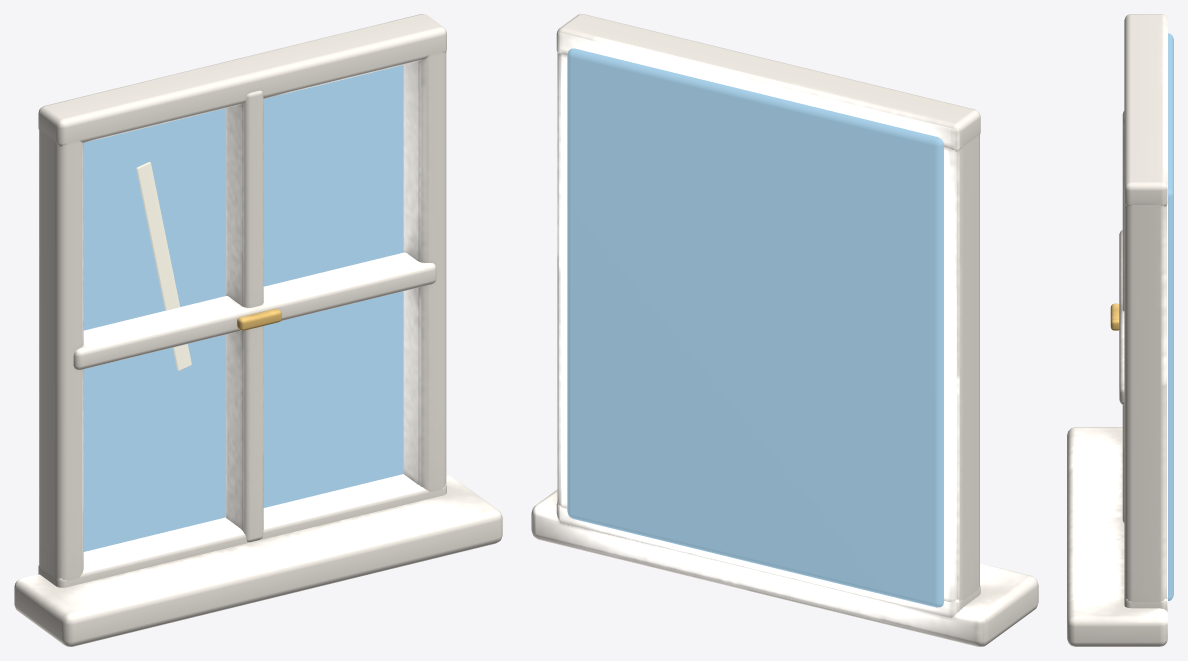
Rendered from windowWhiteClassic.glb.
3 views of the same model, side by side, from view 1: azimuth 30°, elevation 25°; view 2: azimuth 150°, elevation 25°; view 3: azimuth 270°, elevation 25° (orthographic). The views are drawn at different scales.
Visible parts, largest first — view 1: Sky blue glass, Deep window sill, Window upright, Window crossbar.001, Window upright.001, Window center mullion, Window sash, Window crossbar, Window light reflection; view 2: Sky blue glass, Window upright, Window crossbar.001, Deep window sill, Window upright.001, Window crossbar; view 3: Window upright.001, Deep window sill, Window crossbar.001, Sky blue glass, Window center mullion, Window sash, Window crossbar, Brass window latch.
Boxes of the visible parts, box(x1,y1,x2,y2) form: Sky blue glass: box(83, 65, 403, 551); Deep window sill: box(14, 475, 502, 646); Window upright: box(39, 130, 83, 580); Window crossbar.001: box(38, 14, 446, 146); Window upright.001: box(403, 52, 446, 491); Window center mullion: box(226, 90, 263, 541); Window sash: box(73, 252, 436, 369); Window crossbar: box(38, 474, 446, 587); Window light reflection: box(136, 162, 191, 370); Sky blue glass: box(567, 48, 944, 607); Window upright: box(944, 135, 979, 601); Window crossbar.001: box(556, 14, 980, 151); Deep window sill: box(531, 490, 1038, 646); Window upright.001: box(557, 53, 567, 508); Window crossbar: box(556, 502, 980, 617); Window upright.001: box(1124, 202, 1167, 602); Deep window sill: box(1067, 427, 1167, 646); Window crossbar.001: box(1124, 14, 1167, 206); Sky blue glass: box(1168, 33, 1173, 600); Window center mullion: box(1122, 111, 1124, 523); Window sash: box(1119, 230, 1124, 404); Window crossbar: box(1124, 598, 1167, 612); Brass window latch: box(1110, 303, 1119, 330).
Bounding box in the file's own units: 1.37 × 1.49 × 0.3175.
